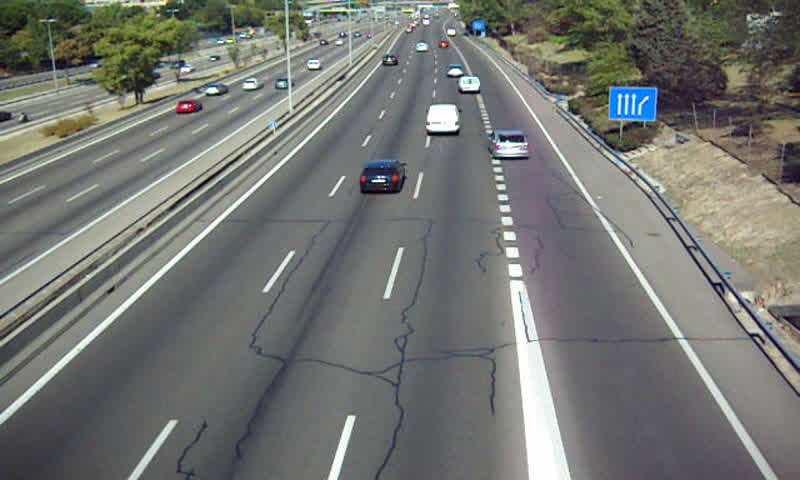car: (359, 162, 406, 193), (488, 130, 531, 161), (448, 64, 463, 78), (382, 54, 398, 67)
van: (426, 104, 460, 136), (459, 76, 481, 94)
